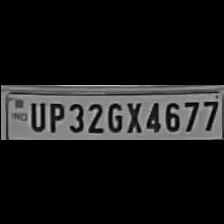2: (84, 100, 104, 132)
3: (65, 100, 83, 132)
4: (142, 99, 160, 133)
6: (162, 98, 180, 132)
7: (199, 97, 219, 130), (181, 98, 199, 132)
G: (104, 100, 124, 132)
P: (44, 99, 64, 133)
U: (26, 99, 44, 131)
X: (122, 99, 142, 134)
